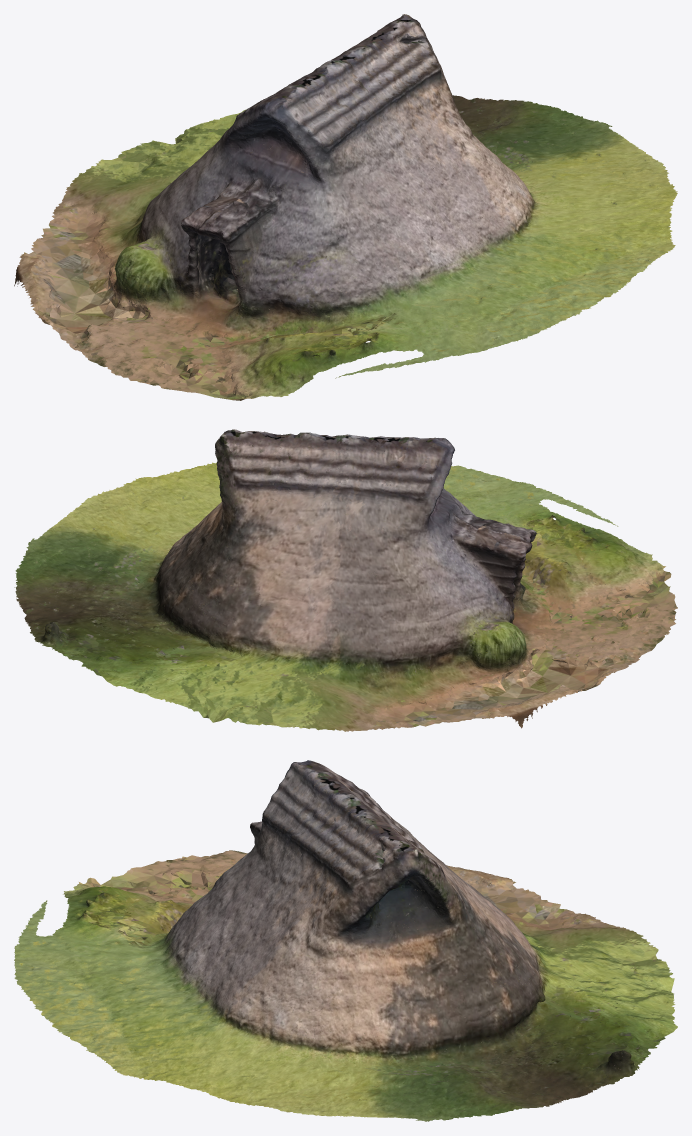
File: tateanaA0717.fbx
The picture shows the model from 3 angles, top to bottom: view 1: azimuth 30°, elevation 25°; view 2: azimuth 150°, elevation 25°; view 3: azimuth 270°, elevation 25°; orthographic projection. The views are drawn at different scales.
Parts seen in each view (by area): view 1: texturedMesh; view 2: texturedMesh; view 3: texturedMesh.
Boxes of the visible parts, <box> form: texturedMesh: <box>14,14,677,400</box>; texturedMesh: <box>14,429,677,731</box>; texturedMesh: <box>14,760,677,1121</box>.
Size of the model in its own units: 90.13 by 30.26 by 84.46.
2 materials, 2 textured.
